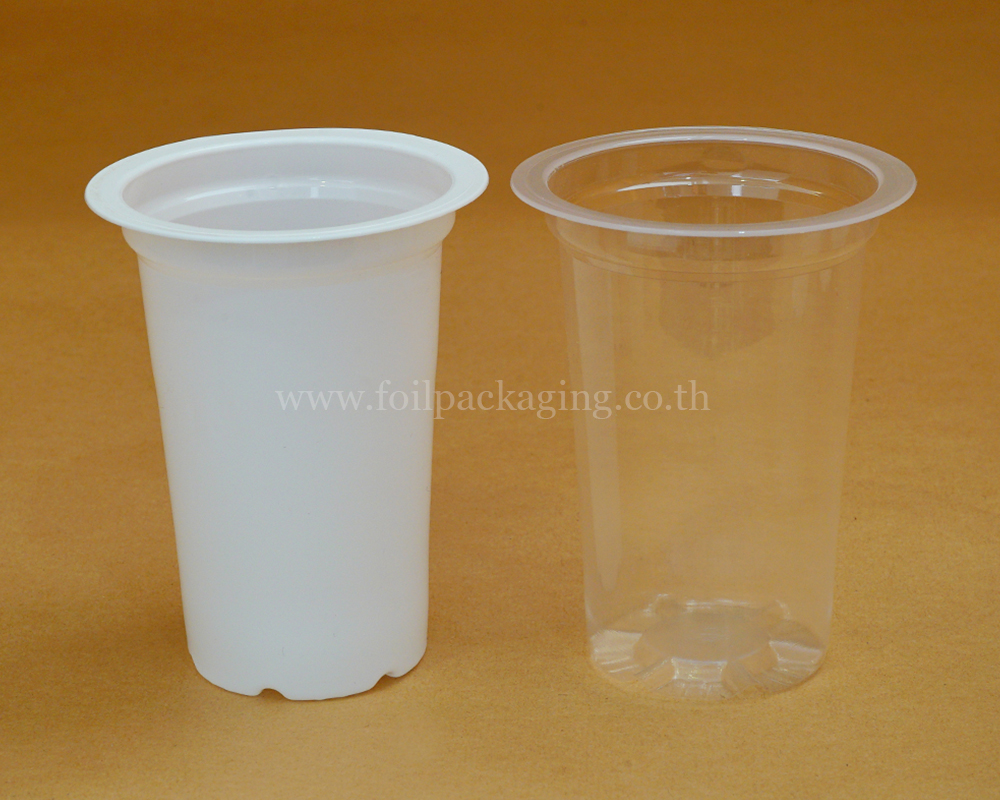plastic_glass: (499, 107, 924, 716), (78, 117, 497, 712)
